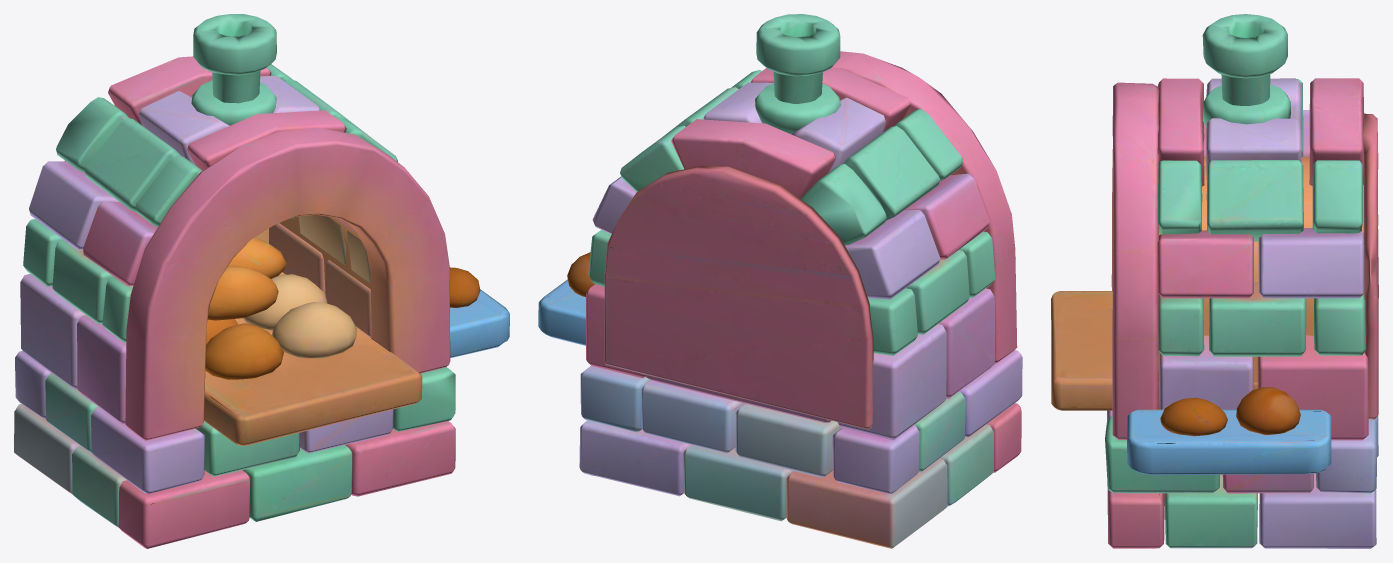
File: bakery-oven.glb
The picture shows the model from 3 angles, left to right: view 1: azimuth 30°, elevation 25°; view 2: azimuth 150°, elevation 25°; view 3: azimuth 270°, elevation 25°; orthographic projection. The views are drawn at different scales.
Visible parts, largest first — view 1: geometry_0; view 2: geometry_0; view 3: geometry_0.
Boxes of the visible parts, x1=… form: geometry_0: x1=14, y1=14, x2=509, y2=548; geometry_0: x1=538, y1=14, x2=1022, y2=548; geometry_0: x1=1051, y1=14, x2=1378, y2=548.
Bounding box in the file's own units: 0.9263 × 1 × 0.6702.
1 material, 1 textured.
